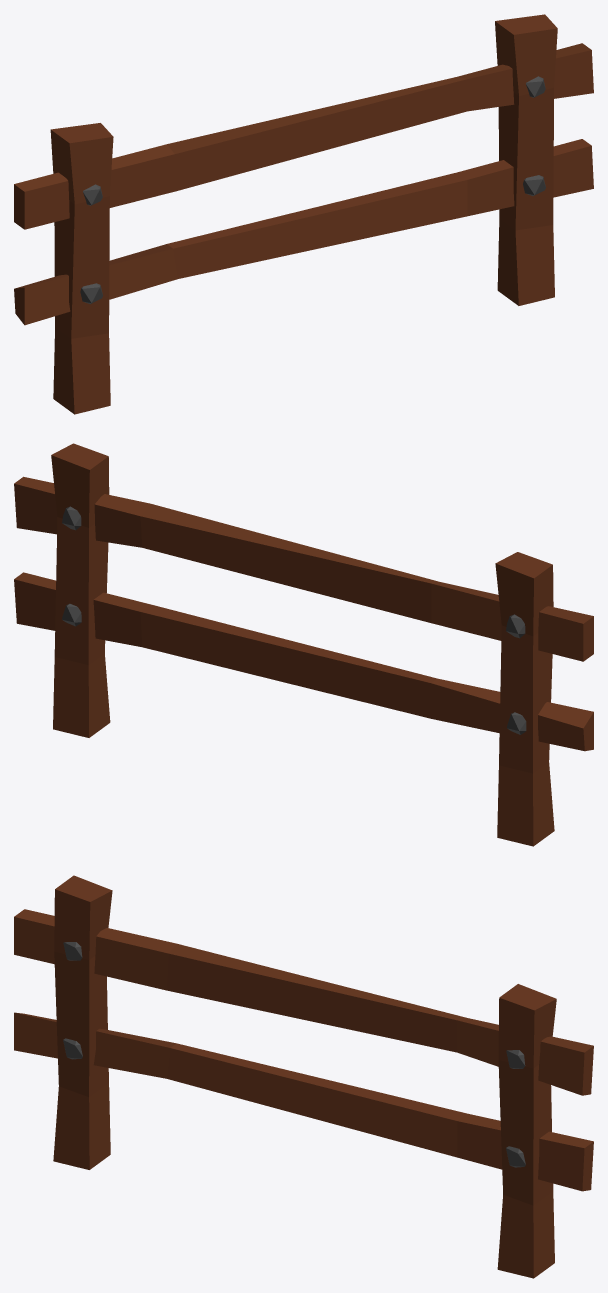
Rendered from Zaun.fbx.
The picture shows the model from 3 angles, top to bottom: view 1: azimuth 30°, elevation 25°; view 2: azimuth 150°, elevation 25°; view 3: azimuth 330°, elevation 25°; orthographic projection.
Parts seen in each view (by area): view 1: Cube.002, Cube.003, Cube.001, Cube; view 2: Cube.002, Cube.003, Cube.001, Cube; view 3: Cube.002, Cube.003, Cube.001, Cube.
Boxes of the visible parts, x1,y1,x2,y2 form: Cube.002: (14, 43, 593, 229); Cube.003: (14, 139, 593, 325); Cube.001: (50, 123, 113, 414); Cube: (495, 14, 557, 305); Cube.002: (14, 476, 593, 661); Cube.003: (14, 572, 593, 751); Cube.001: (495, 552, 554, 846); Cube: (51, 443, 110, 737); Cube.002: (14, 909, 593, 1095); Cube.003: (14, 1012, 593, 1191); Cube.001: (53, 875, 112, 1169); Cube: (497, 984, 556, 1278).
Size of the model in its own units: 816 by 369 by 61.78.
